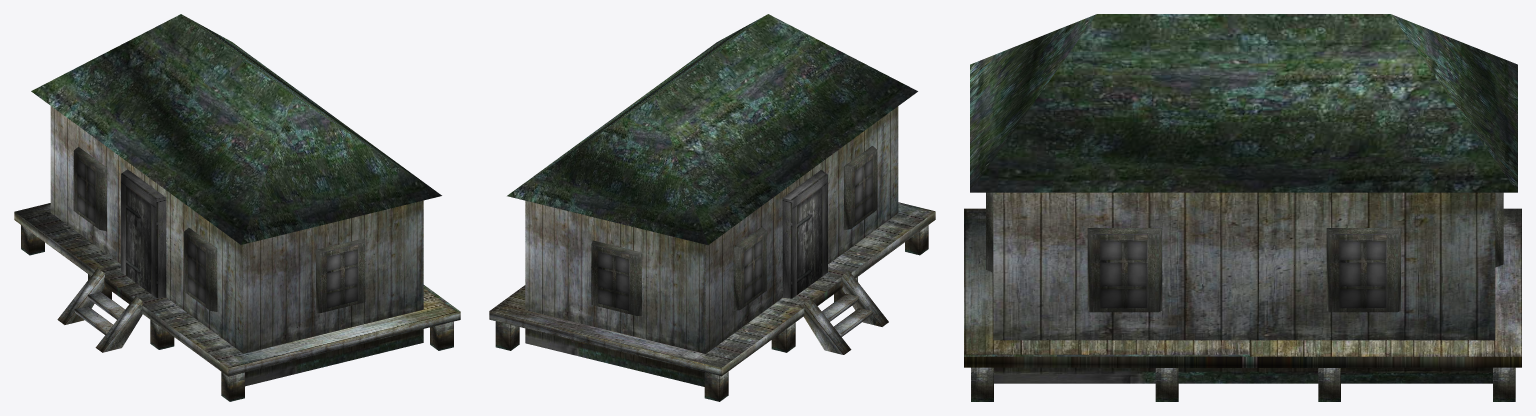
File: house7-03.obj
The picture shows the model from 3 angles, left to right: view 1: azimuth 30°, elevation 25°; view 2: azimuth 150°, elevation 25°; view 3: azimuth 270°, elevation 25°; orthographic projection. The views are drawn at different scales.
Bounding box in the file's own units: 6.04 × 5.17 × 8.2.
Materials: 1 (1 with a texture image).
